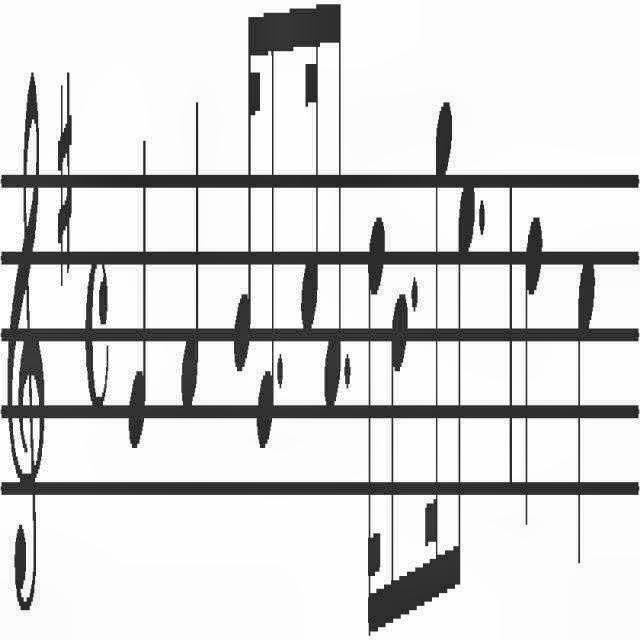Bass-clef: (1, 51, 45, 640)
Diez: (50, 42, 78, 272)
Eighth-note: (256, 0, 276, 462), (324, 2, 344, 422), (456, 164, 472, 608), (389, 264, 408, 632)
Quarter-note: (118, 87, 150, 543), (174, 66, 208, 450), (572, 232, 604, 560), (520, 180, 544, 592)
Sixteenth-note: (427, 82, 453, 612), (227, 0, 261, 384), (362, 198, 386, 640), (292, 0, 320, 324)
